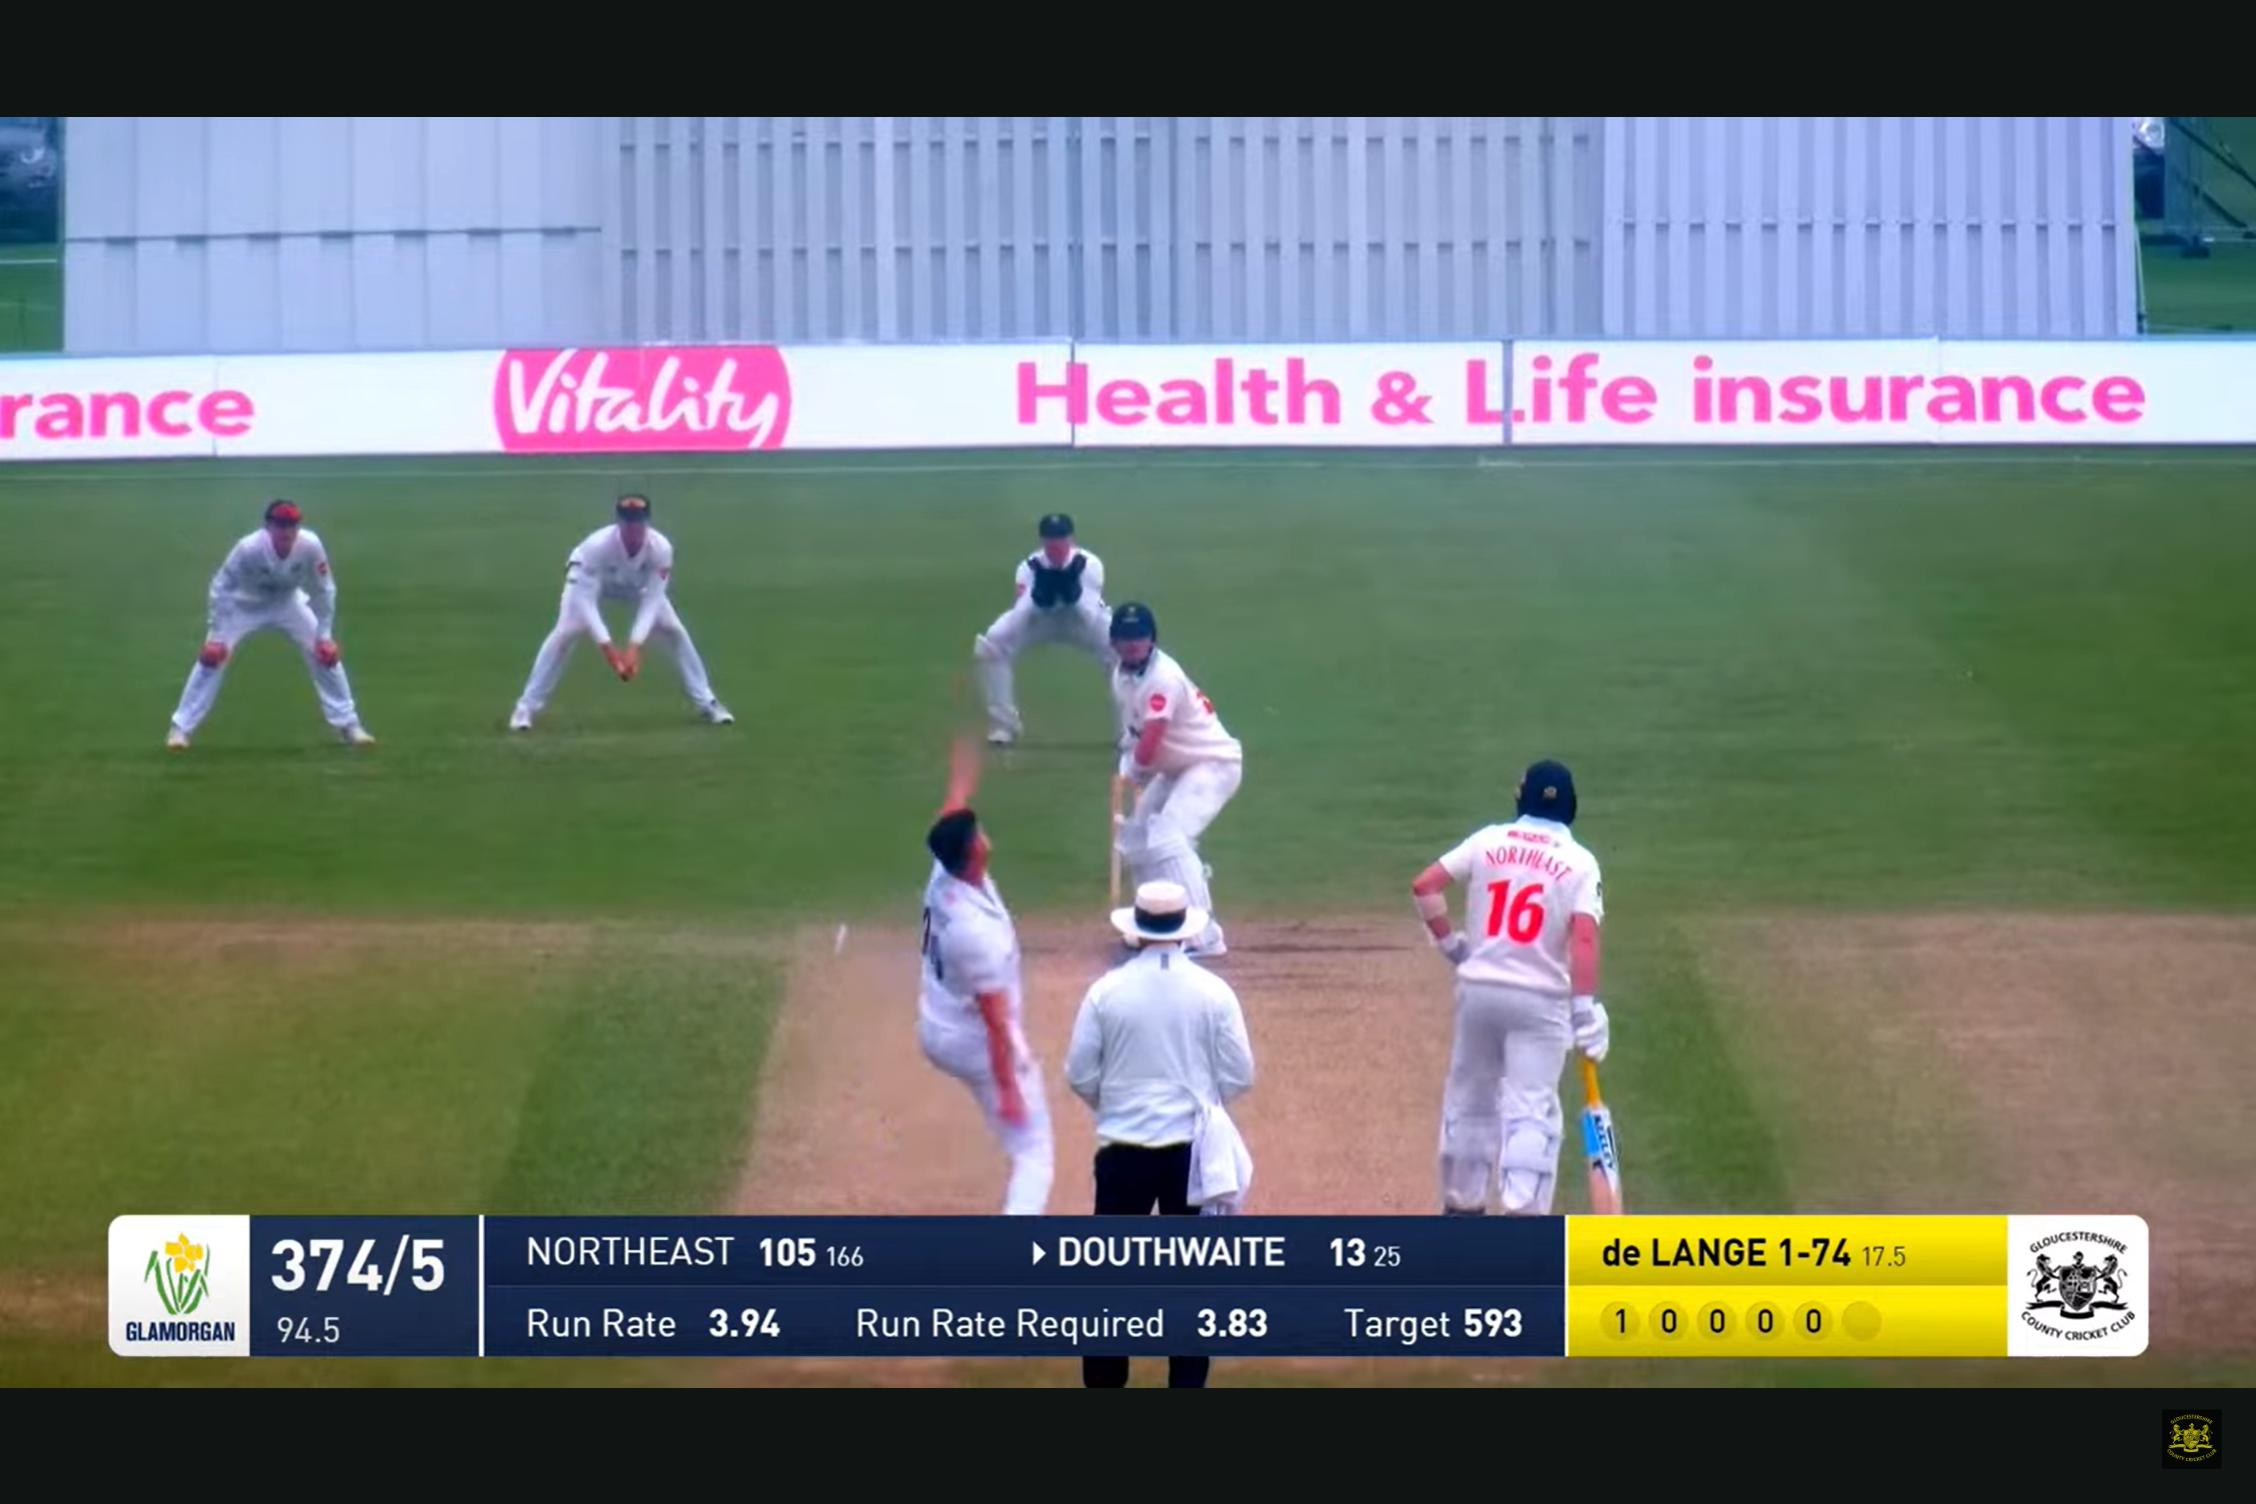bowler running in: (871, 718, 1078, 1198)
non striker: (1385, 764, 1652, 1197)
umpire: (1094, 878, 1287, 1198)
wicket keeper: (943, 509, 1110, 702)
